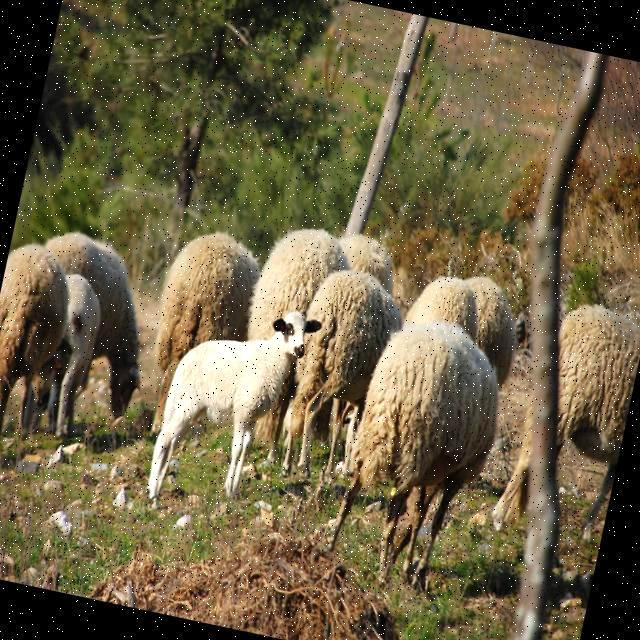sheep: (335, 286, 513, 583)
